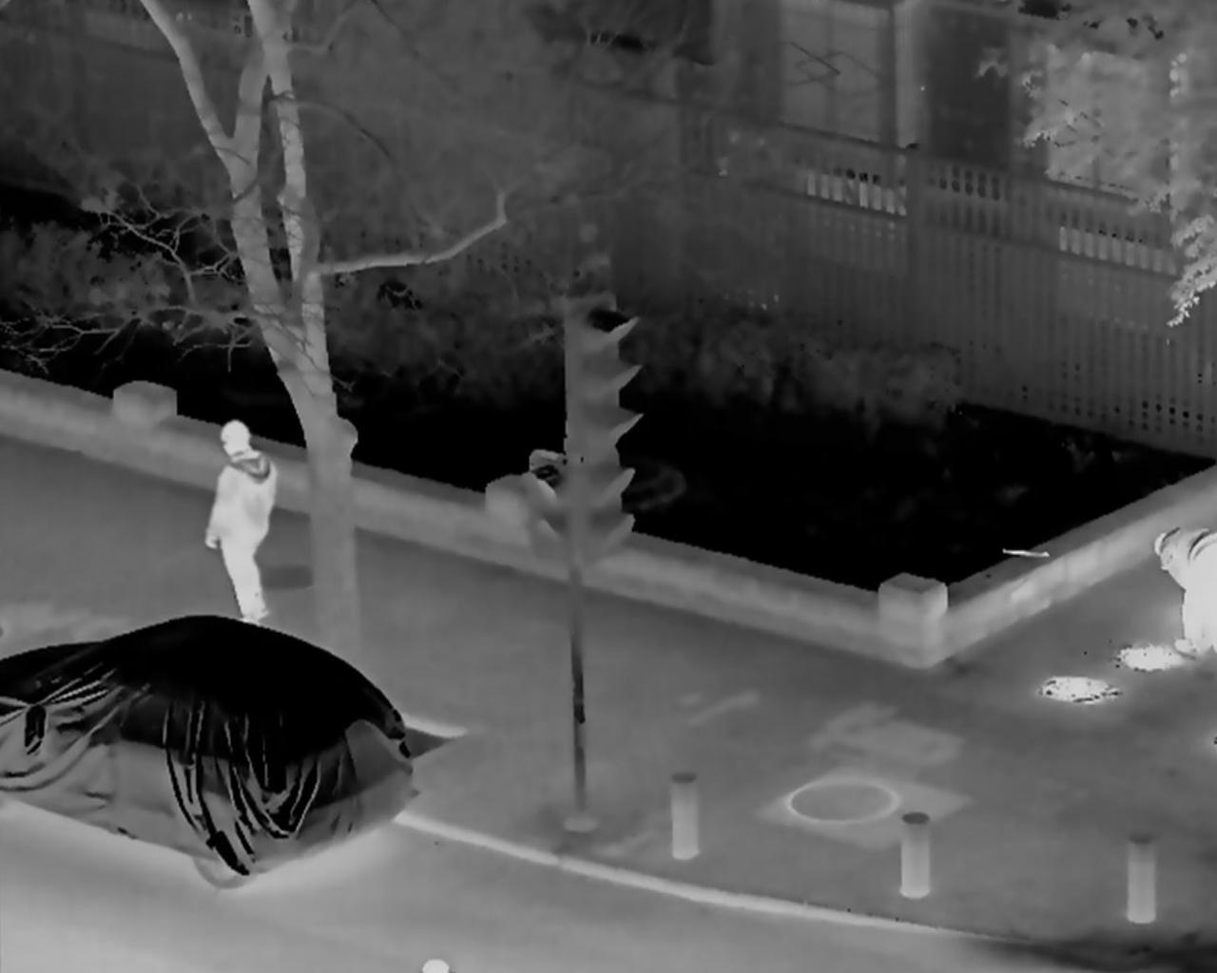person: (203, 424, 282, 627), (1148, 530, 1217, 654)
